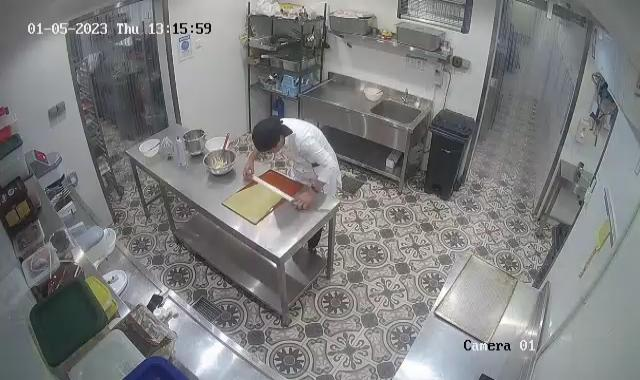no_hairnet: (251, 114, 284, 153)
